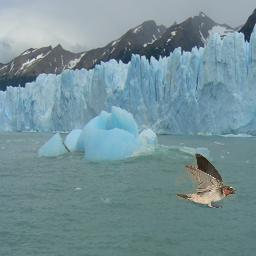Swallow: (175, 153, 236, 208)
